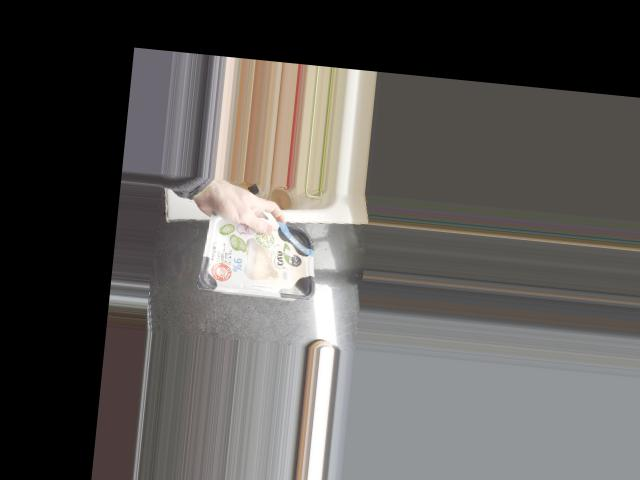cheese: (198, 204, 319, 300)
